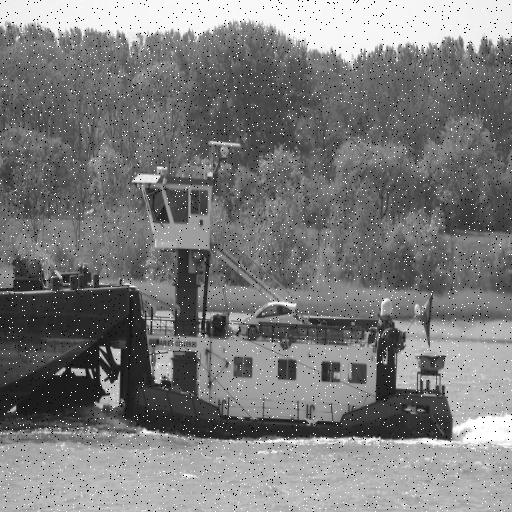tugboat: (50, 138, 458, 450)
